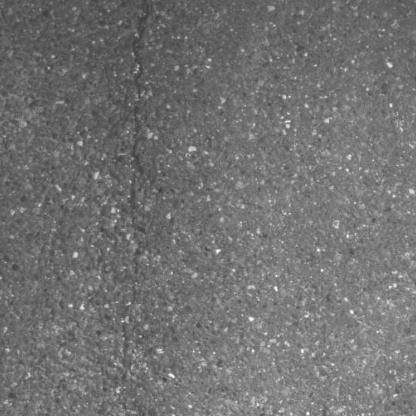Cracks: (120, 0, 155, 253)
